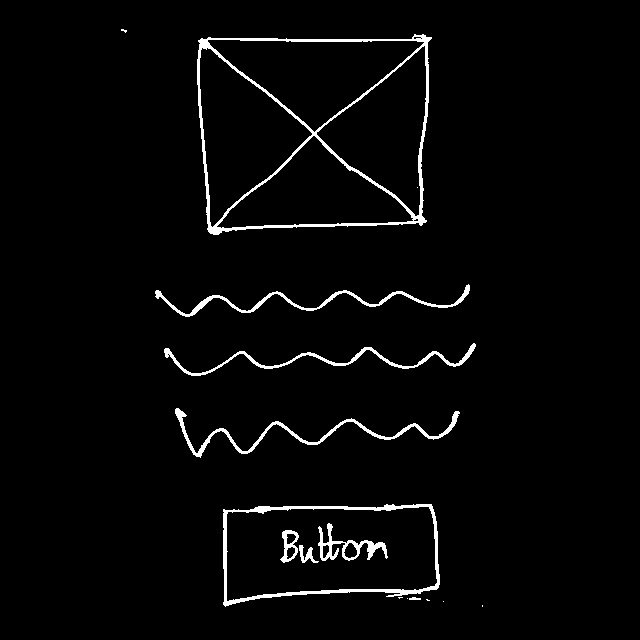button: (213, 493, 447, 606)
image: (192, 27, 436, 233)
paragraph: (149, 281, 467, 448)
